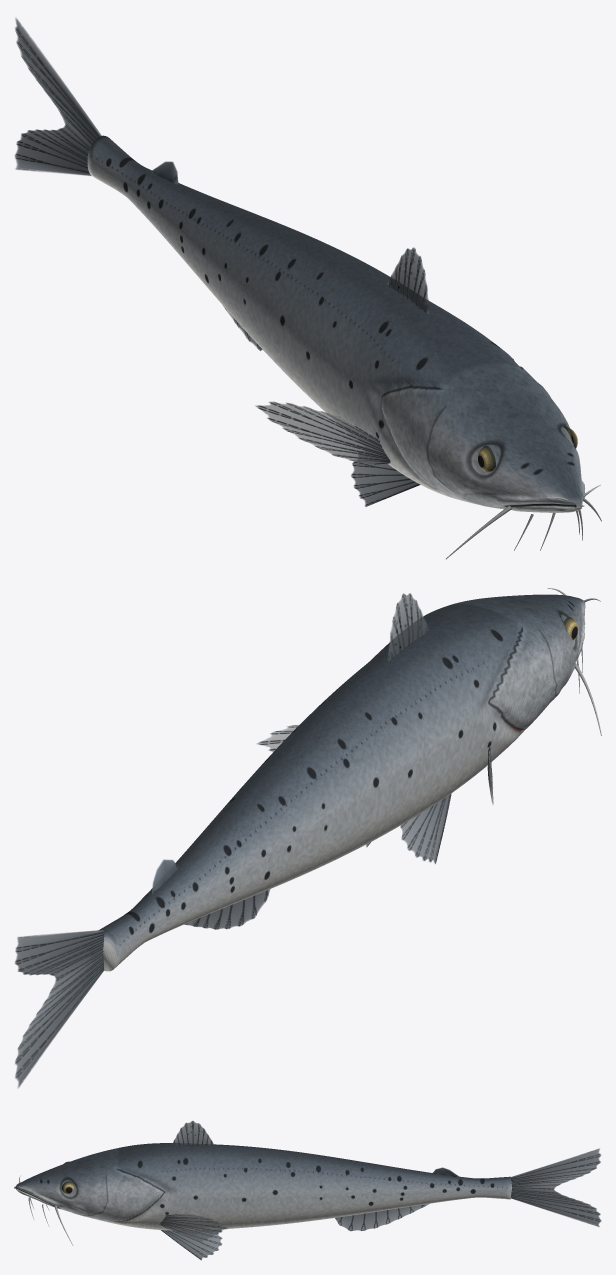
File: sumik_kanalowy.glb
The picture shows the model from 3 angles, top to bottom: view 1: azimuth 30°, elevation 25°; view 2: azimuth 150°, elevation 25°; view 3: azimuth 270°, elevation 25°; orthographic projection. The views are drawn at different scales.
Visible parts, largest first — view 1: Body, FinCaudal, FinPectoral, FinPelvic, FinDorsal1; view 2: Body, FinCaudal, FinPelvic, FinDorsal1, FinAnal; view 3: Body, FinCaudal, FinAnal, FinPelvic, FinPectoral, FinDorsal1.
Boxes of the visible parts, box(x1,y1,x2,y2) form: Body: box(87, 135, 585, 512); FinCaudal: box(14, 18, 101, 175); FinPectoral: box(255, 401, 390, 464); FinPelvic: box(351, 451, 420, 506); FinDorsal1: box(387, 247, 429, 314); Body: box(98, 594, 585, 971); FinCaudal: box(15, 930, 104, 1087); FinPelvic: box(366, 793, 451, 863); FinDorsal1: box(387, 593, 429, 661); FinAnal: box(184, 889, 270, 929); Body: box(14, 1143, 511, 1230); FinCaudal: box(510, 1148, 601, 1226); FinAnal: box(335, 1203, 429, 1231); FinPelvic: box(161, 1229, 222, 1260); FinPectoral: box(160, 1213, 228, 1234); FinDorsal1: box(171, 1121, 214, 1145).
Bounding box in the file's own units: 0.2417 × 0.2486 × 0.9955.
10 materials, 9 textured.
